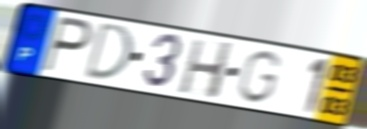1: (304, 57, 332, 116)
3: (140, 32, 184, 92)
D: (81, 21, 135, 82)
G: (234, 49, 285, 106)
H: (176, 37, 236, 102)
P: (40, 14, 95, 76)
